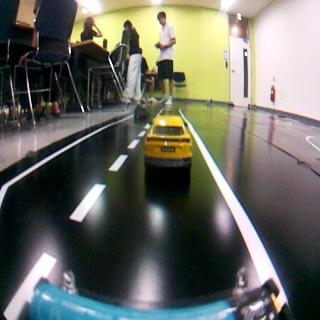car: (146, 118, 190, 177), (132, 105, 151, 124)
